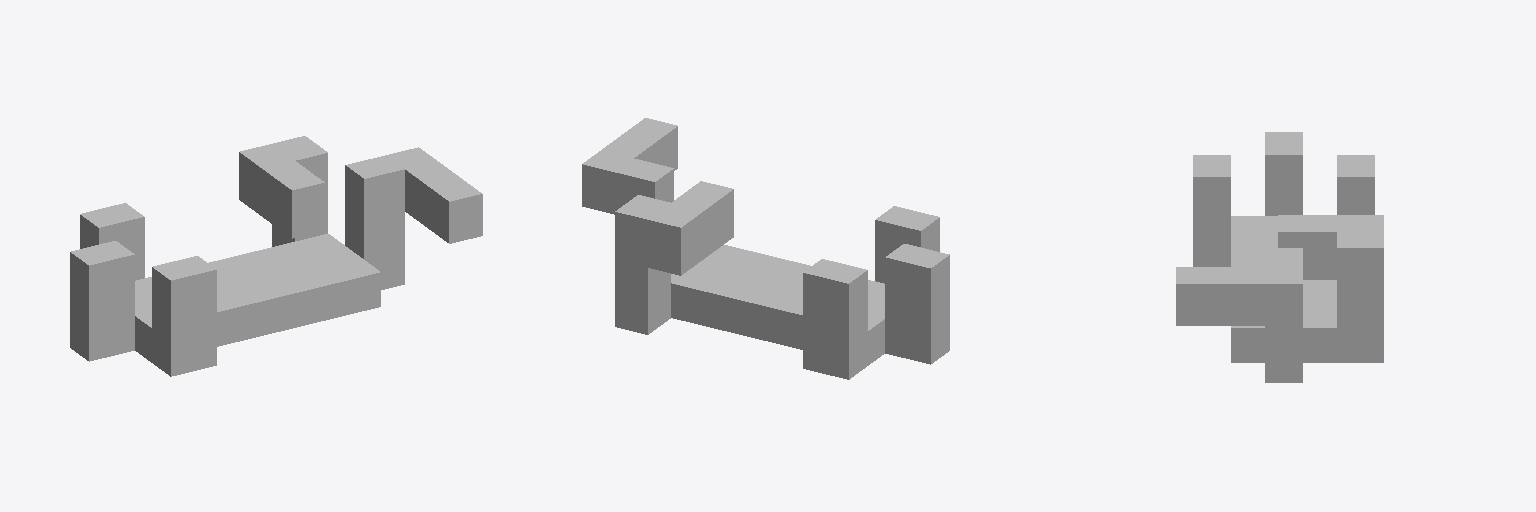
The model's file is Distractor_08.obj.
3 views of the same model, side by side, from view 1: azimuth 30°, elevation 25°; view 2: azimuth 150°, elevation 25°; view 3: azimuth 270°, elevation 25° (orthographic).
Visible parts, largest first — view 1: mesh_1_Long-3.002; view 2: mesh_1_Long-3.002; view 3: mesh_1_Long-3.002.
Boxes of the visible parts, x1,y1,x2,y2 form: mesh_1_Long-3.002: [70, 136, 482, 376]; mesh_1_Long-3.002: [582, 118, 949, 379]; mesh_1_Long-3.002: [1176, 132, 1383, 382].
Bounding box in the file's own units: 0.19 × 0.06 × 0.098.